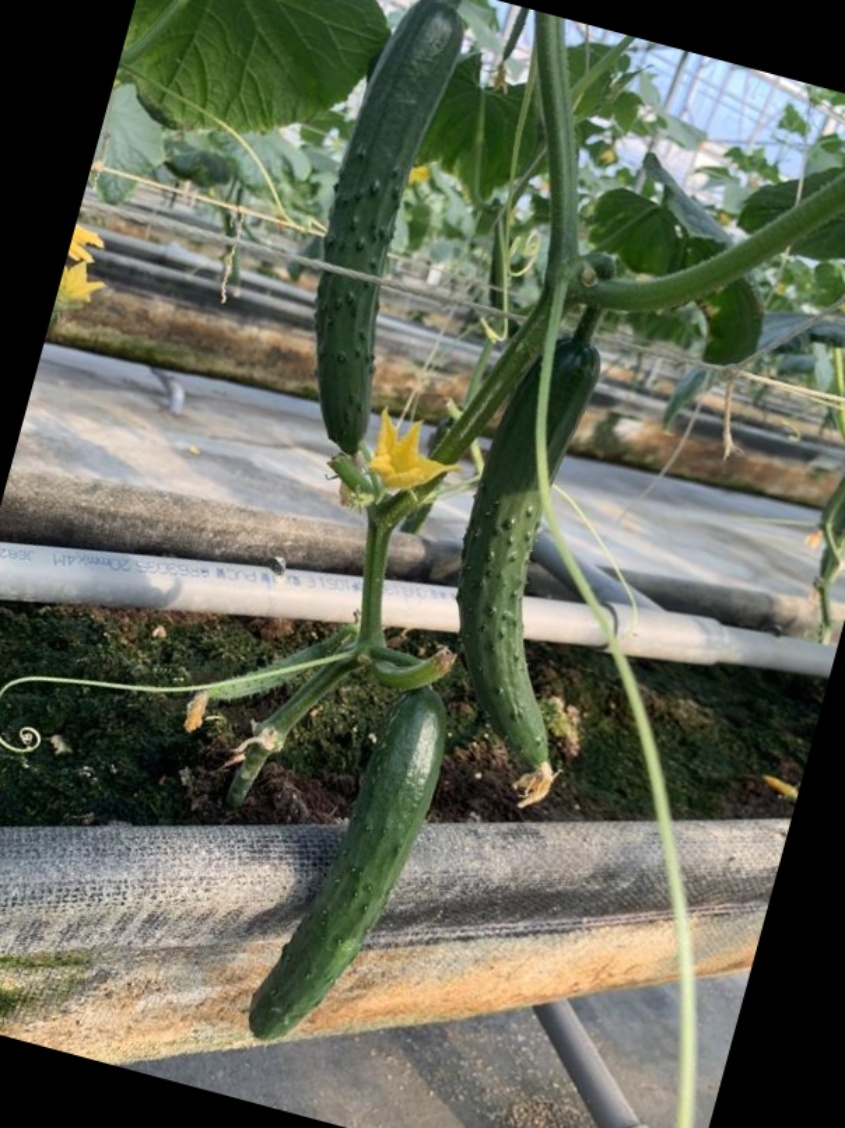mature: (309, 1, 479, 454), (242, 677, 447, 1041)
